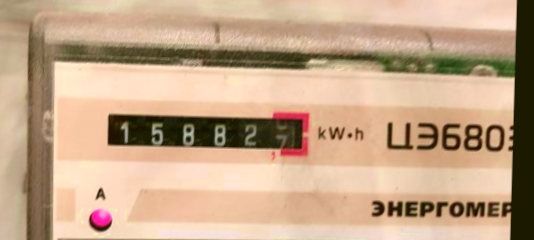1: (119, 118, 132, 145)
2: (243, 122, 260, 147)
5: (150, 120, 165, 146)
7: (274, 132, 290, 149)
8: (181, 121, 198, 146), (213, 122, 229, 147)
screen: (98, 102, 318, 165)
